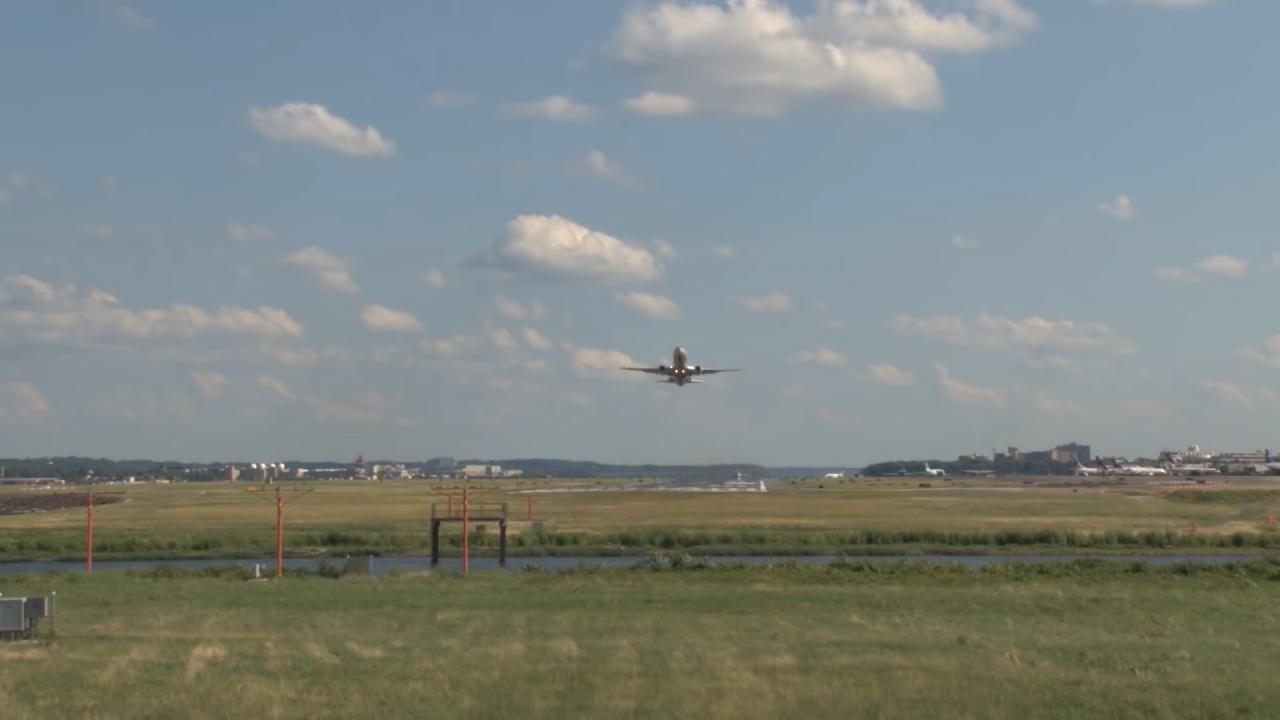Airplane: (612, 338, 747, 400)
